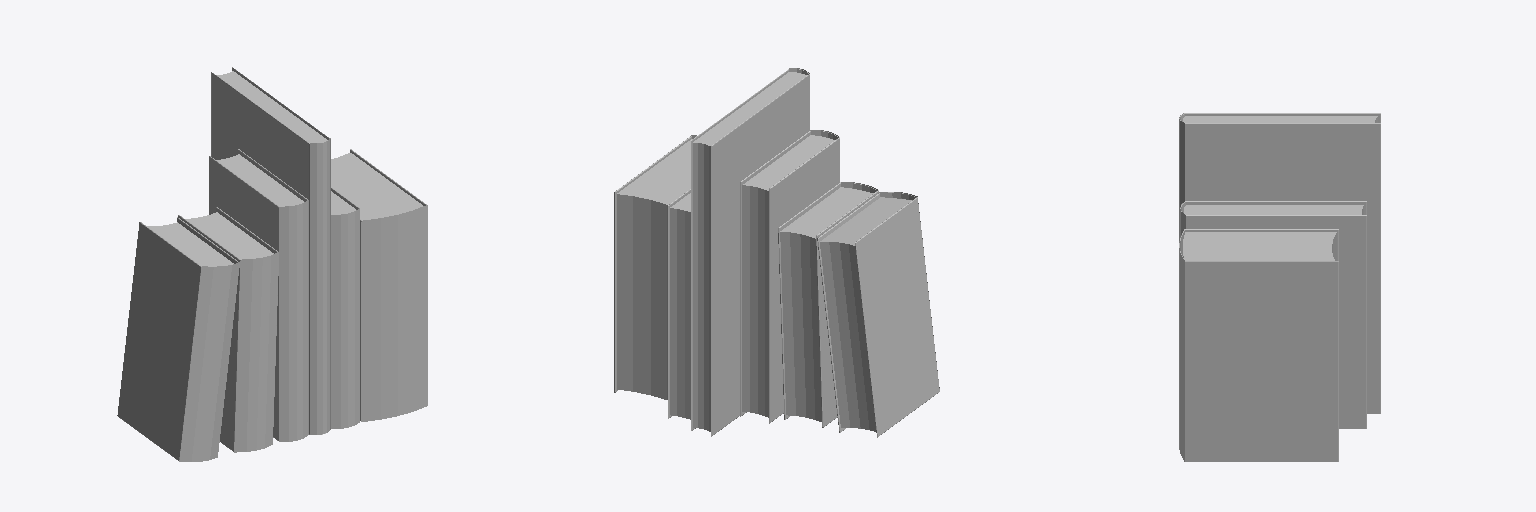
The model's file is book.obj.
3 renders of one model, left to right at view 1: azimuth 30°, elevation 25°; view 2: azimuth 150°, elevation 25°; view 3: azimuth 270°, elevation 25°, orthographic.
Parts seen in each view (by area): view 1: titles_tranche_4.001, face_avant_5, face_avant_2, face_avant_1, pages_4, pages, face_avant, pages_2, pages_1, pages_5, face_arriere_2, face_arriere_1; view 2: face_avant_5, face_avant_2, pages_4, pages, pages_5, pages_1, pages_2, face_avant_1, pages_3, face_avant, face_arriere_2, face_arriere_4 (+3 smaller); view 3: face_arriere_4, face_arriere_2, face_arriere_3, pages_4, titles_tranche_4.001, pages_3, pages_2, face_avant_3, face_avant_2.
Boxes of the visible parts, <box> form: titles_tranche_4.001: <box>179,138,427,461</box>; face_avant_5: <box>117,222,201,461</box>; face_avant_2: <box>211,72,309,434</box>; face_avant_1: <box>209,156,278,440</box>; pages_4: <box>331,153,422,220</box>; pages: <box>186,212,273,259</box>; face_avant: <box>178,215,240,452</box>; pages_2: <box>217,71,327,143</box>; pages_1: <box>216,154,303,206</box>; pages_5: <box>147,222,233,266</box>; face_arriere_2: <box>232,67,330,429</box>; face_arriere_1: <box>238,149,308,434</box>; face_avant_5: <box>855,197,939,437</box>; face_avant_2: <box>711,74,809,436</box>; pages_4: <box>617,139,692,399</box>; pages: <box>780,187,873,421</box>; pages_5: <box>820,197,911,431</box>; pages_1: <box>742,135,834,417</box>; pages_2: <box>693,72,806,431</box>; face_avant_1: <box>769,137,839,423</box>; pages_3: <box>670,193,690,419</box>; face_avant: <box>816,190,878,427</box>; face_arriere_2: <box>691,69,788,430</box>; face_arriere_4: <box>614,136,691,392</box>; face_arriere_4: <box>1185,261,1338,461</box>; face_arriere_2: <box>1185,123,1380,413</box>; face_arriere_3: <box>1186,215,1366,428</box>; pages_4: <box>1183,232,1336,260</box>; titles_tranche_4.001: <box>1179,113,1185,460</box>; pages_3: <box>1184,205,1363,214</box>; pages_2: <box>1183,116,1377,122</box>; face_avant_3: <box>1185,201,1366,214</box>; face_avant_2: <box>1184,113,1380,122</box>.
Bounding box in the file's own units: 23.99 × 26.95 × 16.88.